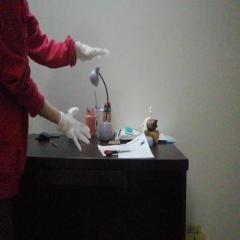gloved: (60, 108, 90, 152), (76, 40, 110, 61)
